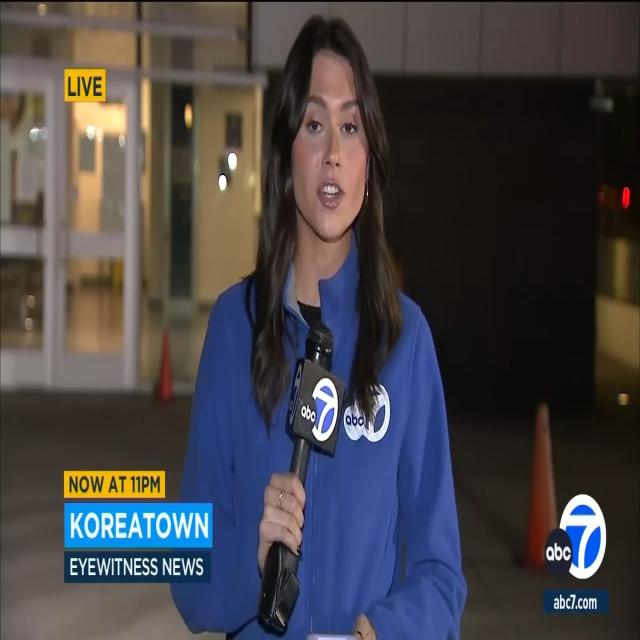microphone: (258, 313, 344, 639)
